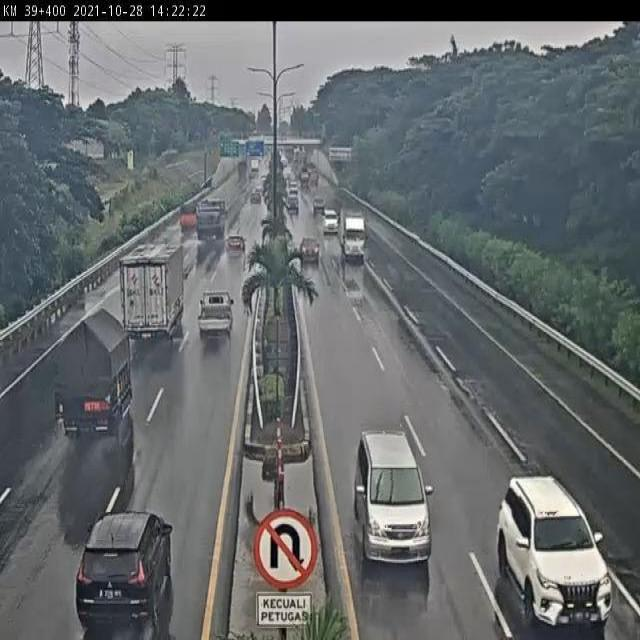car: (351, 428, 433, 565), (197, 295, 235, 344), (225, 229, 247, 255)
truck-l-: (121, 241, 185, 339), (195, 199, 224, 241)
truck-m-: (53, 306, 131, 438)
truck-s-: (339, 204, 368, 260), (178, 203, 199, 233)
